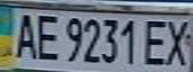1: (118, 16, 142, 65)
2: (81, 15, 103, 64)
3: (100, 16, 121, 65)
9: (60, 14, 84, 62)
A: (9, 9, 39, 61)
E: (139, 17, 172, 66), (33, 10, 63, 61)
X: (160, 16, 193, 68)
